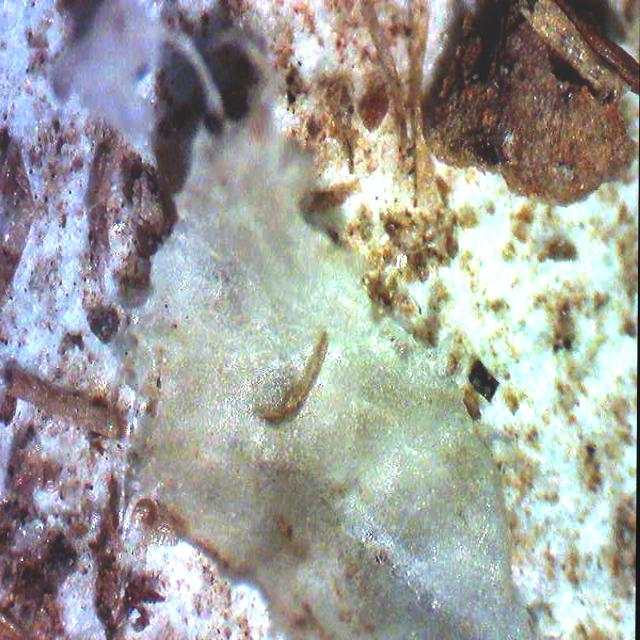microplastic: (0, 95, 617, 640)
